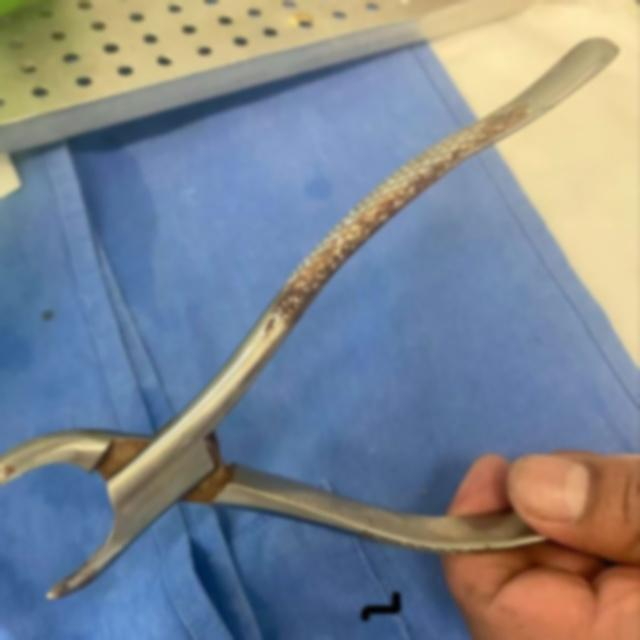forceps: (0, 38, 619, 603)
